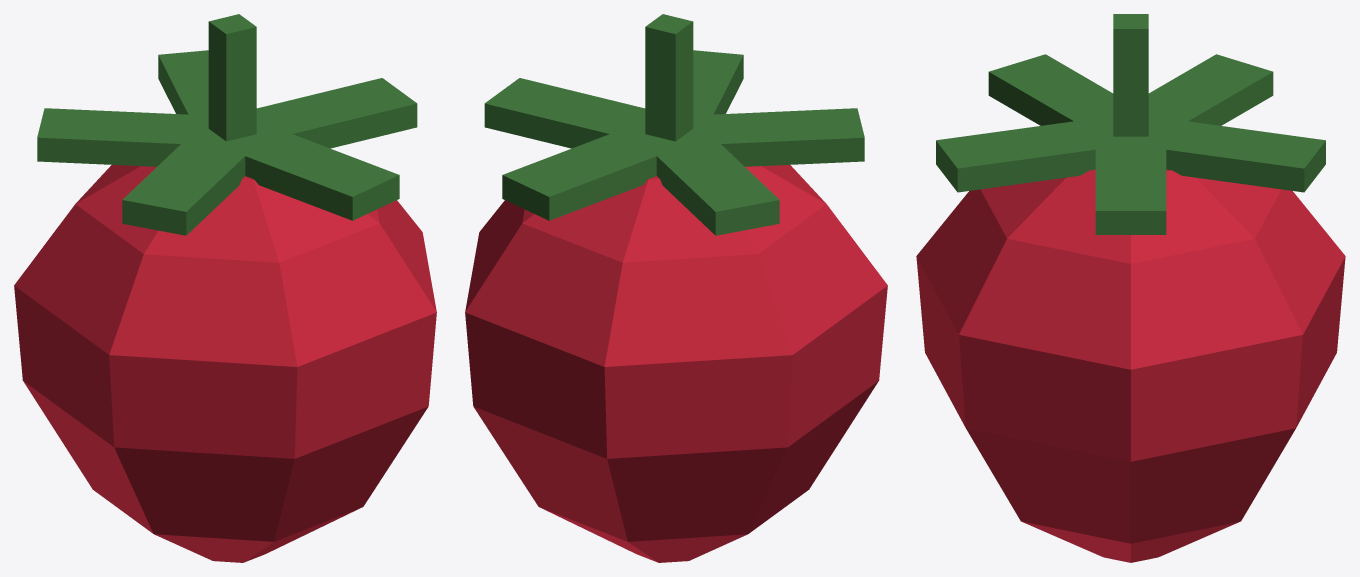
File: FD_Strawberry_01.glb
3 renders of one model, left to right at view 1: azimuth 30°, elevation 25°; view 2: azimuth 150°, elevation 25°; view 3: azimuth 270°, elevation 25°, orthographic.
Visible parts, largest first — view 1: FD_Strawberry_01; view 2: FD_Strawberry_01; view 3: FD_Strawberry_01.
Part boxes in pixels (bbox=[...]): FD_Strawberry_01: bbox=[14, 14, 436, 562]; FD_Strawberry_01: bbox=[465, 14, 887, 562]; FD_Strawberry_01: bbox=[916, 14, 1345, 562].
Size of the model in its own units: 0.0475 by 0.066 by 0.0487.
Materials: 1 (1 with a texture image).
